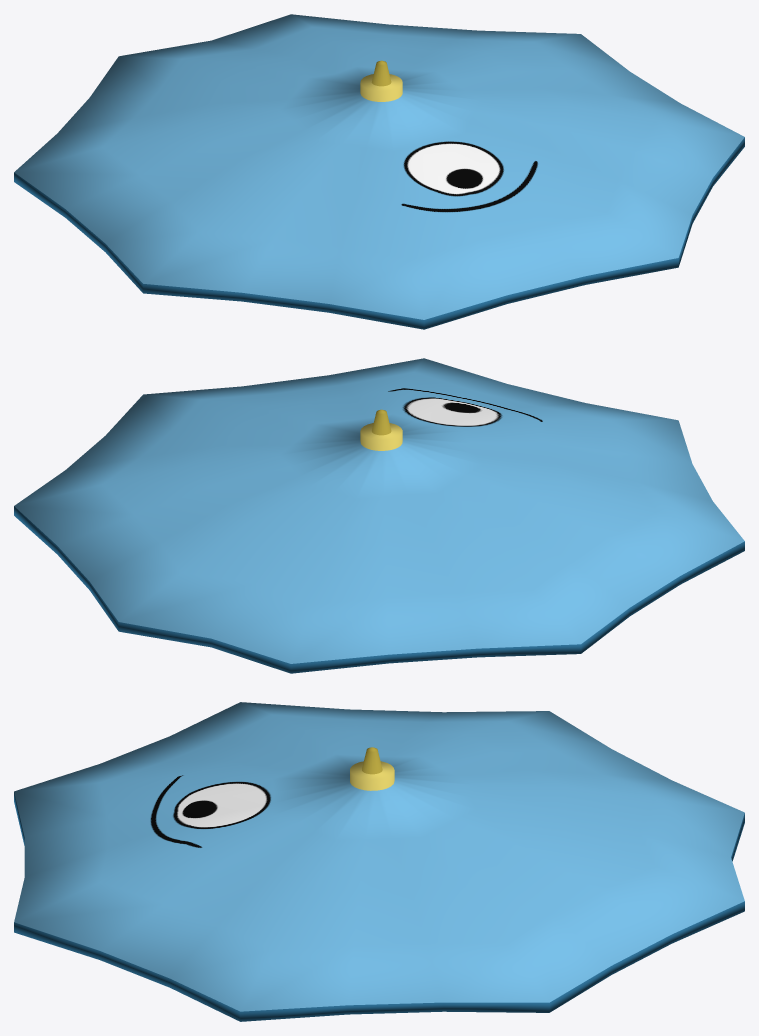
Rendered from Brello_Normal_abierto.fbx.
3 views of the same model, one above another, from view 1: azimuth 30°, elevation 25°; view 2: azimuth 150°, elevation 25°; view 3: azimuth 270°, elevation 25° (orthographic). The views are drawn at different scales.
Parts seen in each view (by area): view 1: abierto; view 2: abierto; view 3: abierto.
Part boxes in pixels (left/top/right/bottom): abierto: left=14, top=14, right=744, bottom=329; abierto: left=14, top=358, right=744, bottom=673; abierto: left=14, top=702, right=744, bottom=1021.
Size of the model in its own units: 501 by 90.47 by 500.
